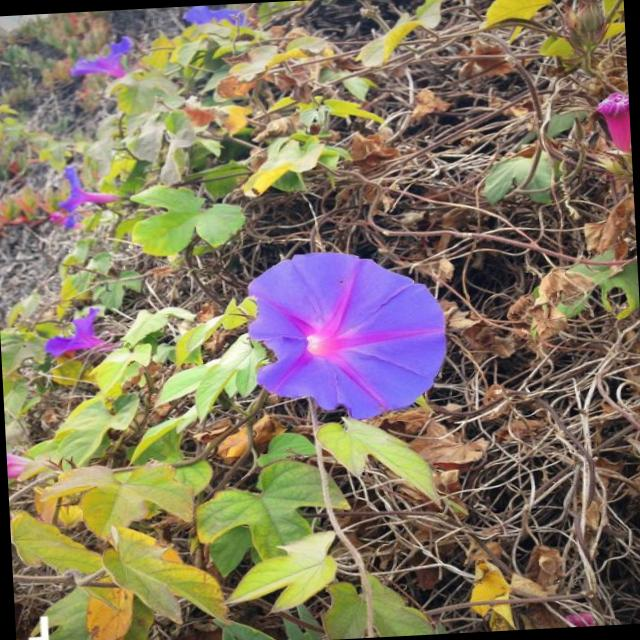ipomoea: (240, 244, 456, 428)
